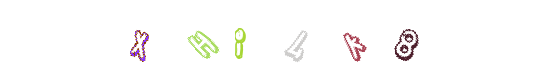4: (246, 0, 326, 80)
8: (316, 0, 396, 80)
H: (178, 0, 258, 80)
I: (239, 0, 319, 80)
K: (283, 0, 363, 80)
X: (100, 0, 180, 80)
